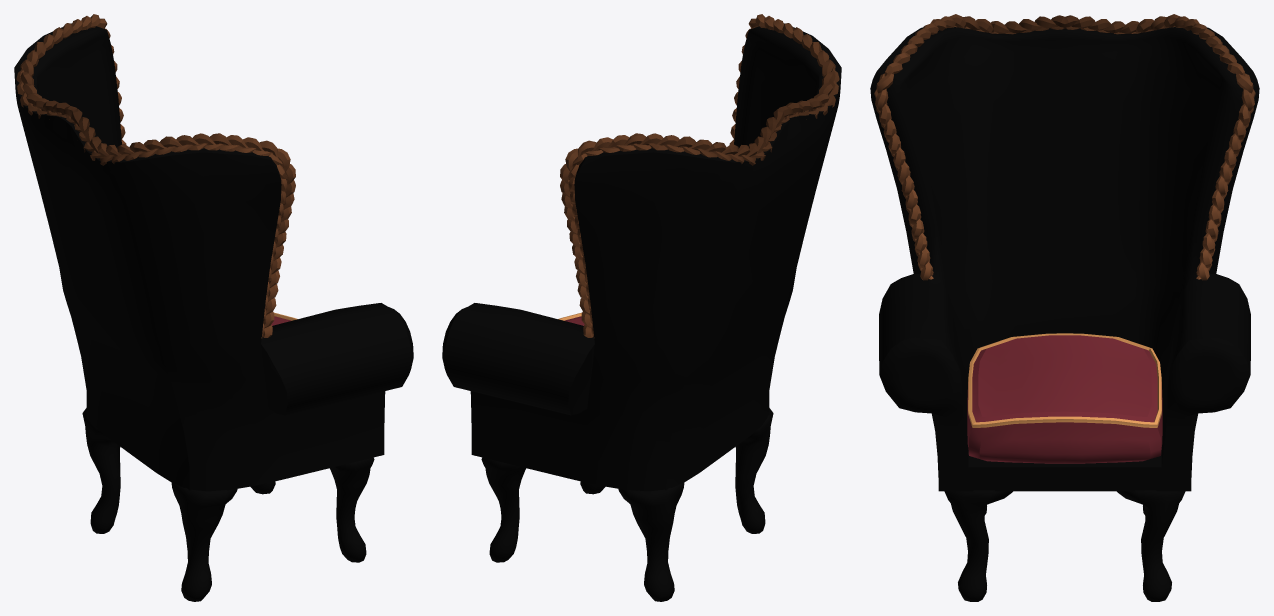
Rendered from WingedArmchair.fbx.
The picture shows the model from 3 angles, left to right: view 1: azimuth 30°, elevation 25°; view 2: azimuth 150°, elevation 25°; view 3: azimuth 270°, elevation 25°; orthographic projection.
Parts seen in each view (by area): view 1: cusion; view 2: cusion; view 3: cusion.
Part boxes in pixels (x1,y1,x2,y2): cusion: [14, 14, 413, 601]; cusion: [442, 14, 841, 601]; cusion: [870, 14, 1259, 601].
Bounding box in the file's own units: 58.55 × 102 × 74.32.
